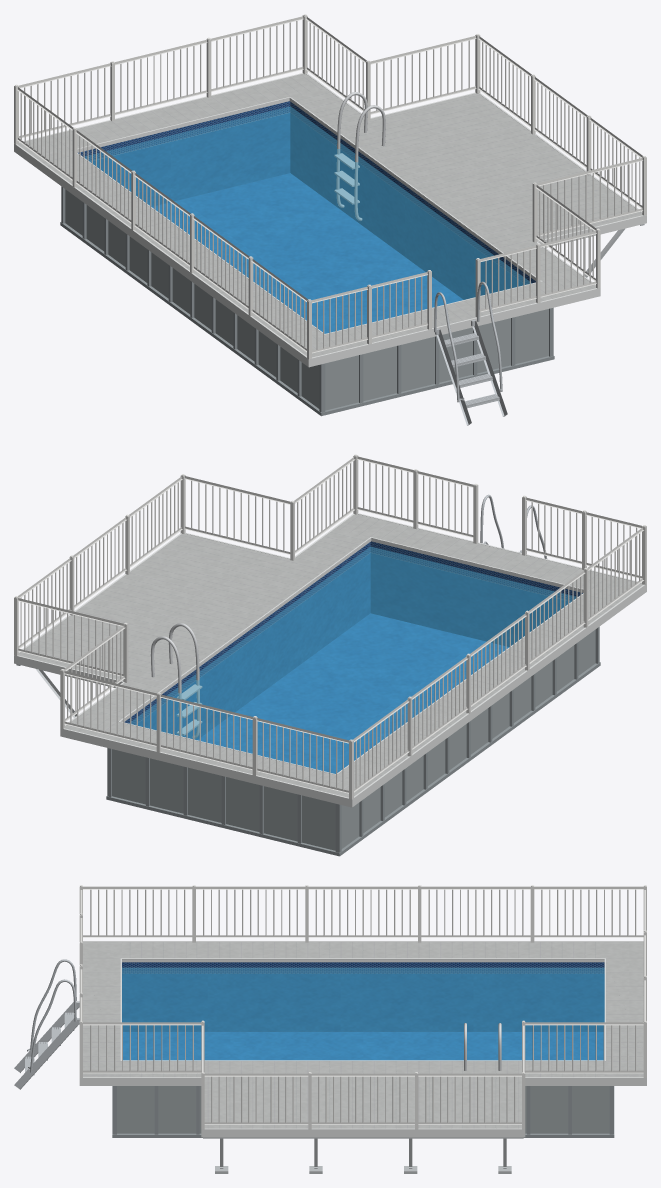
The model's file is kayak-pool-12x24-gray-t-ag-fence.2e1ff35779.glb.
3 renders of one model, top to bottom at view 1: azimuth 30°, elevation 25°; view 2: azimuth 150°, elevation 25°; view 3: azimuth 270°, elevation 25°, orthographic. The views are drawn at different scales.
Visible parts, largest first — view 1: water, deck, fence, liner_wall, liner_floor, wall, fascia, upright, ladder, steel; view 2: water, deck, fence, liner_wall, liner_floor, wall, fascia, upright, steel; view 3: water, deck, liner_wall, fence, liner_floor, fascia, wall, ladder, upright, stud.
Part boxes in pixels (x1,y1,x2,y2): water: [84, 106, 531, 333]; deck: [18, 74, 642, 357]; fence: [14, 14, 646, 358]; liner_wall: [78, 101, 535, 299]; liner_floor: [152, 173, 463, 333]; wall: [65, 189, 548, 410]; fascia: [14, 73, 646, 367]; upright: [60, 186, 554, 416]; ladder: [434, 281, 507, 425]; steel: [334, 92, 385, 220]; water: [129, 547, 575, 773]; deck: [18, 514, 642, 797]; fence: [14, 454, 646, 799]; liner_wall: [124, 541, 582, 739]; liner_floor: [198, 613, 508, 773]; wall: [112, 629, 595, 850]; fascia: [14, 513, 646, 807]; upright: [106, 626, 600, 856]; steel: [150, 623, 202, 738]; water: [122, 967, 604, 1060]; deck: [83, 942, 643, 1128]; liner_wall: [122, 962, 604, 1031]; fence: [79, 885, 646, 1129]; liner_floor: [123, 1032, 603, 1060]; fascia: [79, 941, 646, 1137]; wall: [117, 1086, 609, 1133]; ladder: [14, 959, 79, 1089]; upright: [112, 1086, 614, 1137]; stud: [203, 1137, 523, 1173].
Size of the model in its own units: 6.71 by 2.15 by 9.52.
Materials: 11 (3 with a texture image).
